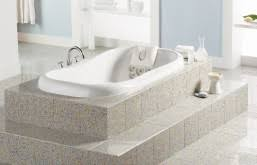bathub: (39, 46, 194, 165)
